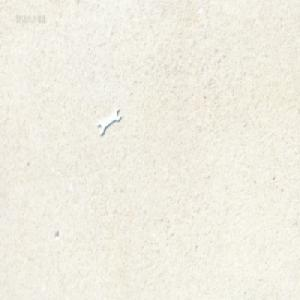Wrench: (97, 107, 120, 136)
